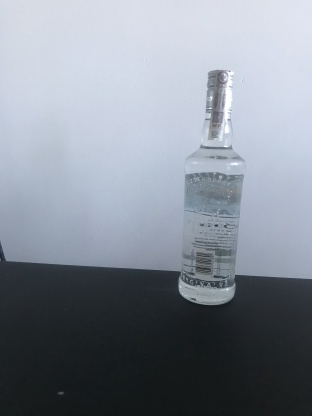nakretka: (202, 67, 237, 114)
